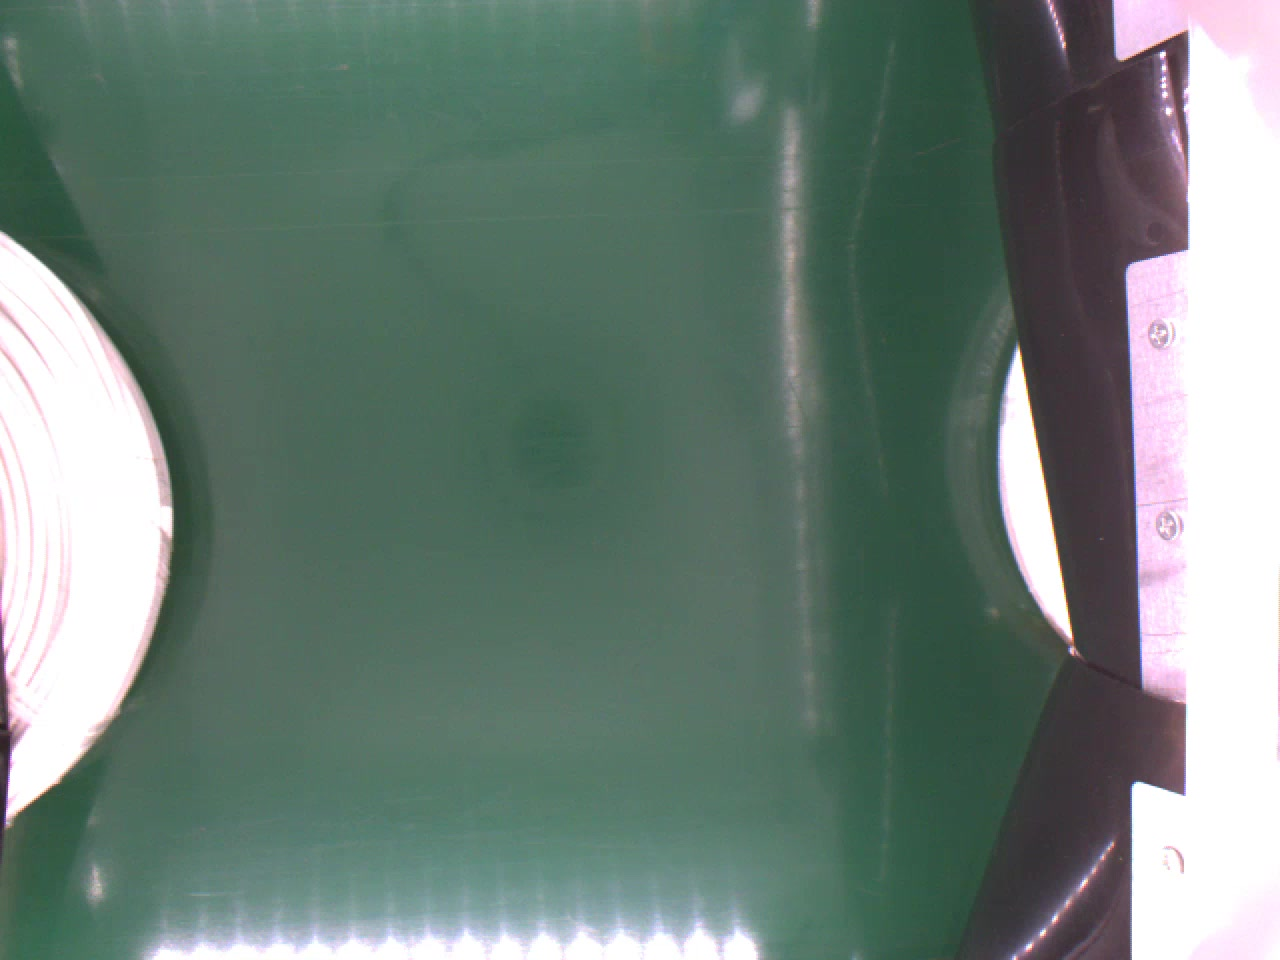white: (0, 226, 182, 826)
